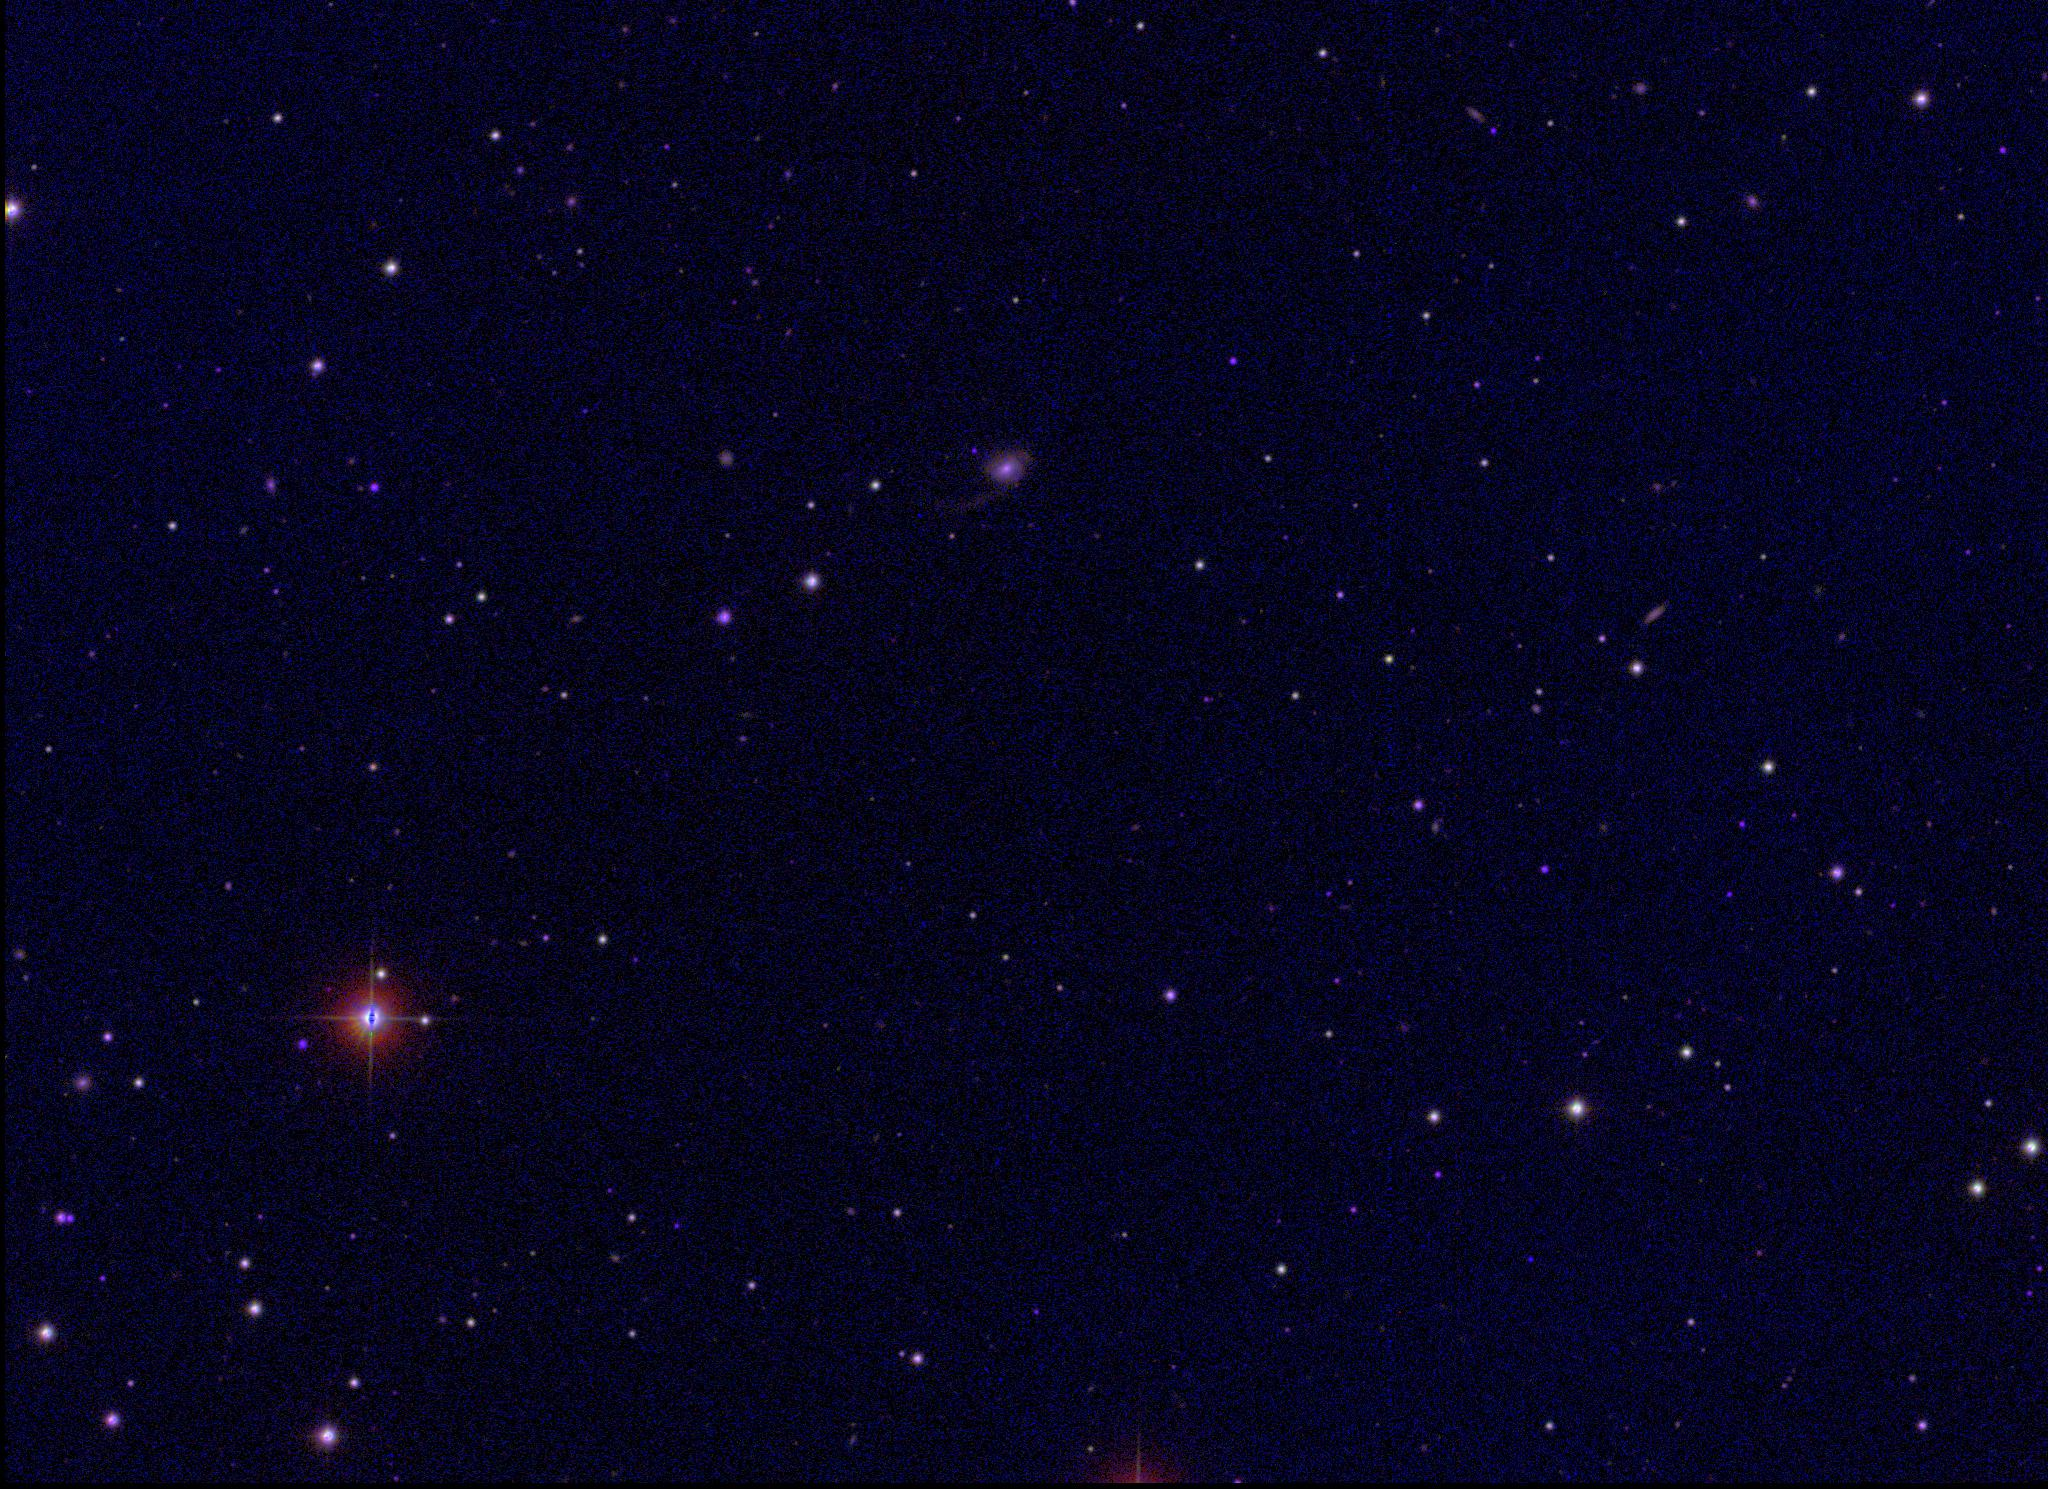L: (1523, 1252, 1538, 1266)
